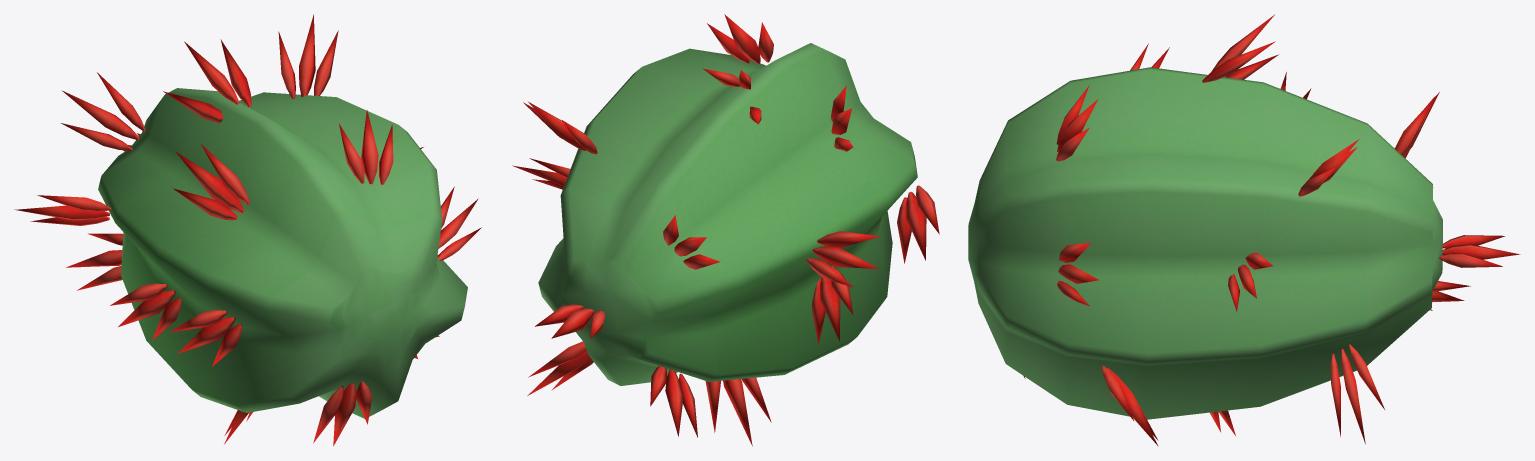
The model's file is bullet chara4.fbx.
The picture shows the model from 3 angles, left to right: view 1: azimuth 30°, elevation 25°; view 2: azimuth 150°, elevation 25°; view 3: azimuth 270°, elevation 25°; orthographic projection. The views are drawn at different scales.
Parts seen in each view (by area): view 1: chara3 lv3.003; view 2: chara3 lv3.003; view 3: chara3 lv3.003.
Part boxes in pixels (x1,y1,x2,y2): chara3 lv3.003: [14, 14, 481, 446]; chara3 lv3.003: [512, 14, 939, 446]; chara3 lv3.003: [968, 14, 1520, 446].
Size of the model in its own units: 22.58 by 21.85 by 26.56.
